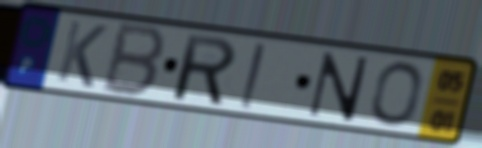B: (97, 20, 170, 101)
I: (237, 40, 268, 112)
K: (53, 17, 111, 91)
N: (304, 50, 372, 124)
O: (368, 59, 425, 129)
R: (172, 31, 239, 109)
